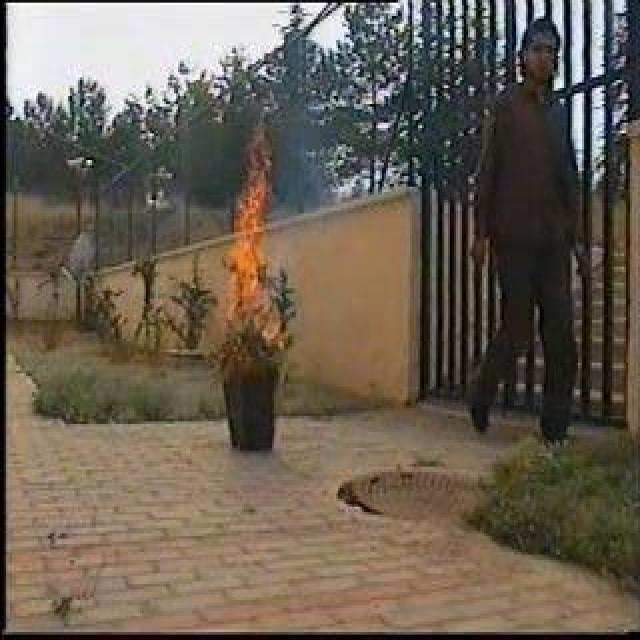fire: (228, 137, 272, 315)
